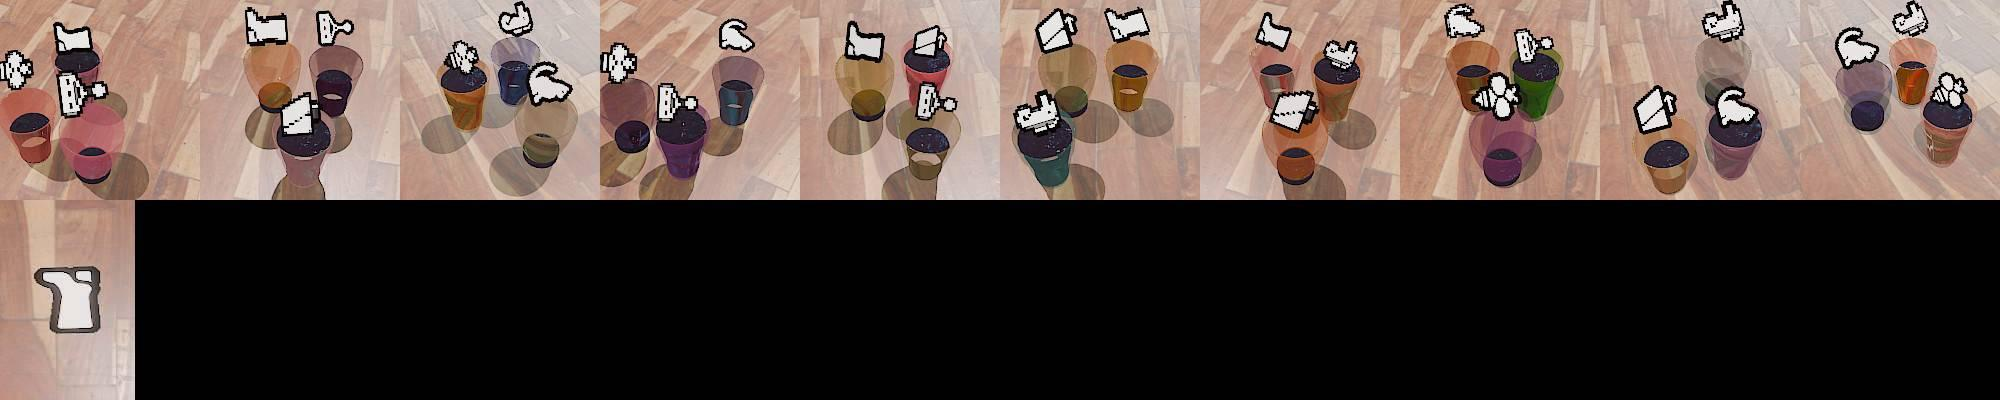icon: (34, 265, 103, 334), (1469, 69, 1520, 120), (653, 82, 707, 130), (57, 71, 108, 118), (1268, 88, 1320, 132), (1633, 84, 1679, 134), (1014, 88, 1064, 132), (527, 60, 573, 106), (1834, 27, 1880, 71), (1713, 85, 1760, 127), (1036, 8, 1078, 54), (1700, 0, 1745, 42), (1102, 5, 1149, 43), (844, 19, 885, 62), (244, 8, 290, 46), (1930, 70, 1972, 111), (278, 92, 318, 135), (909, 80, 952, 120), (1513, 28, 1554, 68), (1444, 3, 1485, 41), (602, 41, 639, 83), (0, 48, 36, 90), (52, 20, 94, 56), (497, 0, 536, 38), (316, 9, 355, 47), (1255, 11, 1292, 51), (911, 23, 949, 59), (1320, 37, 1358, 73), (444, 39, 481, 75), (1893, 1, 1930, 37), (718, 18, 755, 52)
